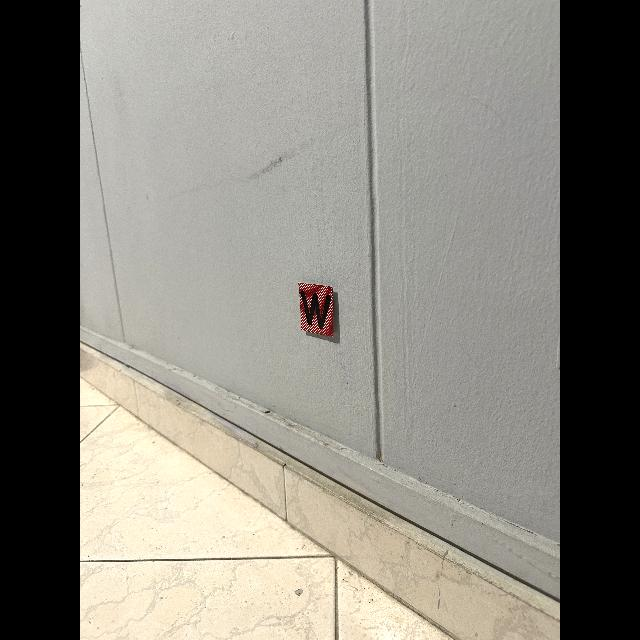W: (301, 290, 331, 329)
